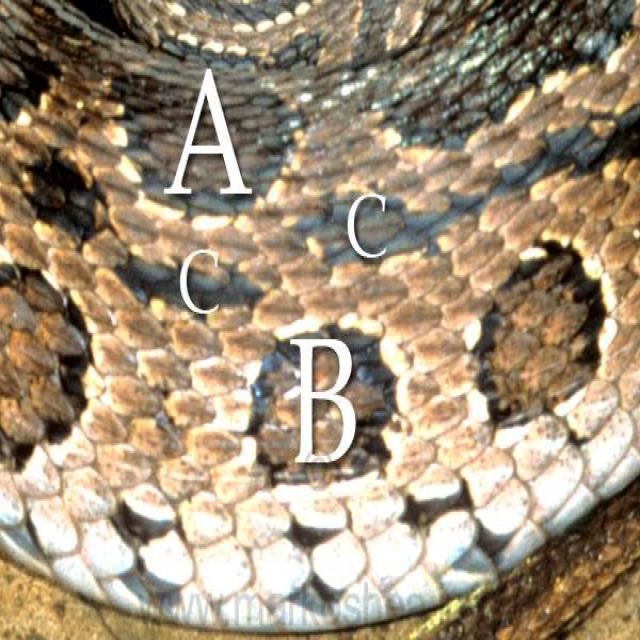Snake: (0, 0, 639, 635)
